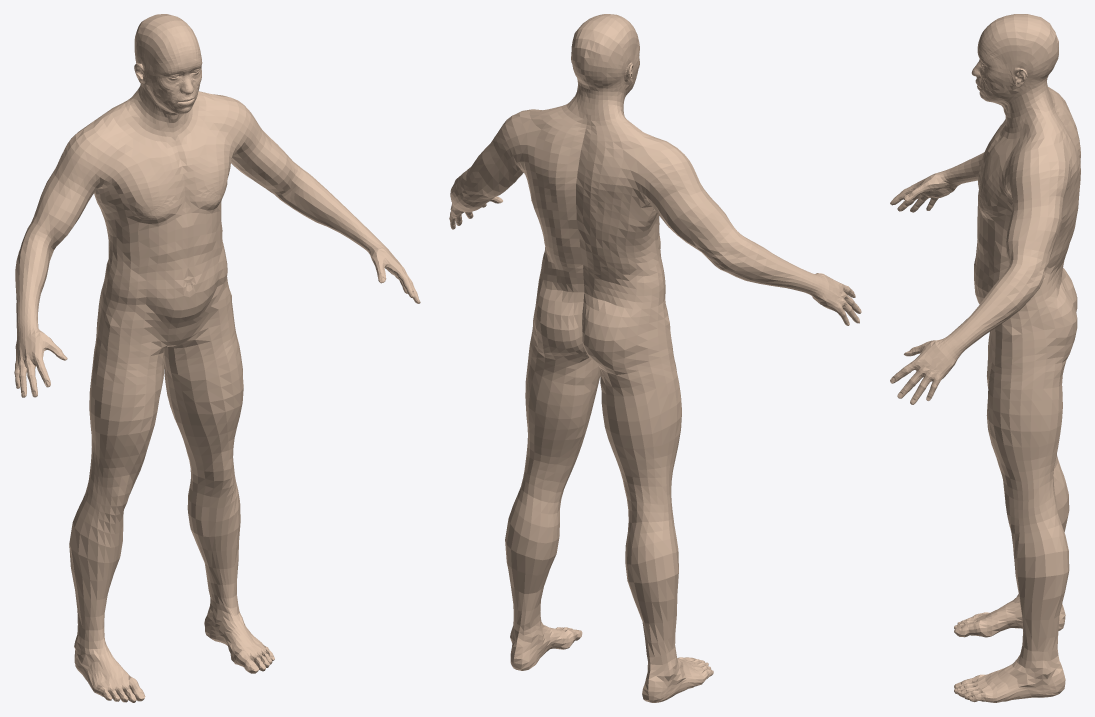
File: male-mature-heavy-high.glb
3 renders of one model, left to right at view 1: azimuth 30°, elevation 25°; view 2: azimuth 150°, elevation 25°; view 3: azimuth 270°, elevation 25°, orthographic.
Visible parts, largest first — view 1: world; view 2: world; view 3: world.
Boxes of the visible parts, x1,y1,x2,y2 form: world: [14, 14, 420, 702]; world: [449, 14, 861, 702]; world: [890, 14, 1080, 702].
Size of the model in its own units: 1.26 by 1.97 by 0.526.
